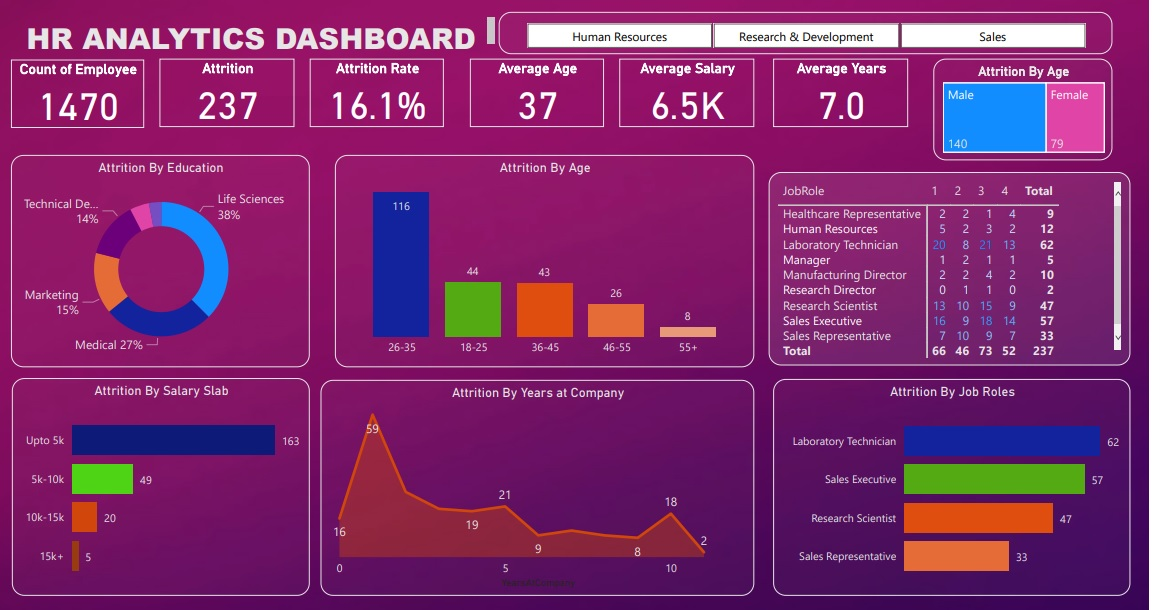

What the dashboard file says about the page in this screenshot:
{"tool":"powerbi","page":{"name":"Page 1","canvas":[1280,720],"ordinal":0},"visuals":[{"type":"card","title":"Count of Employee","fields":{"Values":["CountNonNull(HR_Analytics.EmpID)"]},"box":[16,110,148,76],"z":0},{"type":"card","title":"Attrition","fields":{"Values":["Sum(HR_Analytics.AttritionCount)"]},"box":[181.4,109.2,149.5,75.6],"z":1000},{"type":"card","title":"Average Age","fields":{"Values":["Avg(HR_Analytics.Age)"]},"box":[525.8,109.2,149.5,75.6],"z":2000},{"type":"card","title":"Attrition Rate","fields":{"Values":["HR_Analytics.attritionRate"]},"box":[347.7,109.2,149.5,75.6],"z":3000},{"type":"card","title":"Average Salary","fields":{"Values":["Avg(HR_Analytics.MonthlyIncome)"]},"box":[692.1,109.2,149.5,75.6],"z":4000},{"type":"card","title":"Average Years","fields":{"Values":["Avg(HR_Analytics.YearsAtCompany)"]},"box":[863.4,109.2,149.5,75.6],"z":5000},{"type":"donutChart","title":"Attrition By Education","fields":{"Category":["HR_Analytics.EducationField"],"Y":["Sum(HR_Analytics.AttritionCount)"]},"box":[16,216,332,236],"z":6000},{"type":"columnChart","title":"Attrition By Age","fields":{"Y":["Sum(HR_Analytics.AttritionCount)"],"Category":["HR_Analytics.AgeGroup"]},"box":[376,216,466,236],"z":7000},{"type":"pivotTable","fields":{"Rows":["HR_Analytics.JobRole"],"Columns":["HR_Analytics.JobSatisfaction"],"Values":["Sum(HR_Analytics.AttritionCount)"]},"box":[858.4,235.2,401.5,215],"z":8000},{"type":"clusteredBarChart","title":"Attrition By Salary Slab","fields":{"Category":["HR_Analytics.SalarySlab"],"Y":["Sum(HR_Analytics.AttritionCount)"]},"box":[16.8,463.6,330.9,241.9],"z":9000},{"type":"clusteredBarChart","title":"Attrition By Job Roles","fields":{"Category":["HR_Analytics.JobRole"],"Y":["Sum(HR_Analytics.AttritionCount)"]},"box":[863.4,465.3,396.4,240.2],"z":10000},{"type":"areaChart","title":"Attrition By Years at Company","fields":{"Category":["HR_Analytics.YearsAtCompany"],"Y":["Sum(HR_Analytics.AttritionCount)"]},"box":[360,466,482,240],"z":11000},{"type":"treemap","title":"Attrition By Age","fields":{"Values":["Sum(HR_Analytics.AttritionCount)"],"Group":["HR_Analytics.Gender"]},"box":[1041.5,109.2,198.2,112.5],"z":12000},{"type":"slicer","fields":{"Values":["HR_Analytics.Department"]},"box":[557.7,57.1,682,47],"z":13000},{"type":"textbox","box":[16,58,542,46],"z":14000}]}

Visuals, with their boxes in screenshot pixels (x1, y1, x2, y2):
"Count of Employee" card: region(8, 57, 141, 125)
"Attrition" card: region(157, 56, 291, 124)
"Average Age" card: region(466, 56, 601, 124)
"Attrition Rate" card: region(306, 56, 441, 124)
"Average Salary" card: region(616, 56, 750, 124)
"Average Years" card: region(769, 56, 904, 124)
"Attrition By Education" donutChart: region(8, 152, 307, 364)
"Attrition By Age" columnChart: region(332, 152, 750, 364)
pivotTable - HR_Analytics.JobRole x HR_Analytics.JobSatisfaction: region(765, 169, 1126, 362)
"Attrition By Salary Slab" clusteredBarChart: region(9, 374, 306, 592)
"Attrition By Job Roles" clusteredBarChart: region(769, 376, 1125, 592)
"Attrition By Years at Company" areaChart: region(317, 376, 750, 592)
"Attrition By Age" treemap: region(929, 56, 1107, 157)
slicer - HR_Analytics.Department: region(495, 9, 1107, 51)
textbox: region(8, 10, 495, 51)
